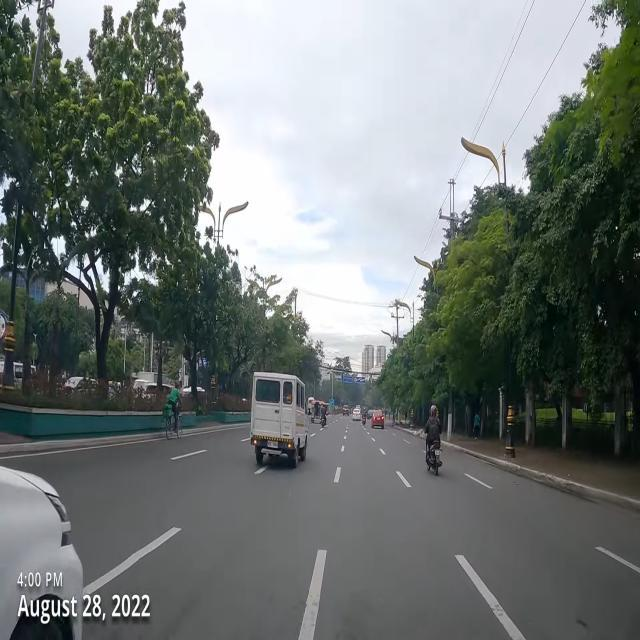bike: (163, 381, 183, 438)
car: (0, 461, 85, 640), (249, 370, 309, 468), (372, 410, 384, 430), (353, 408, 361, 422)
jeepney: (310, 400, 325, 422)
motorcycle: (424, 405, 442, 476), (321, 404, 328, 428), (362, 408, 367, 428)
